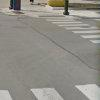Crosswalk: (39, 7, 100, 52)
